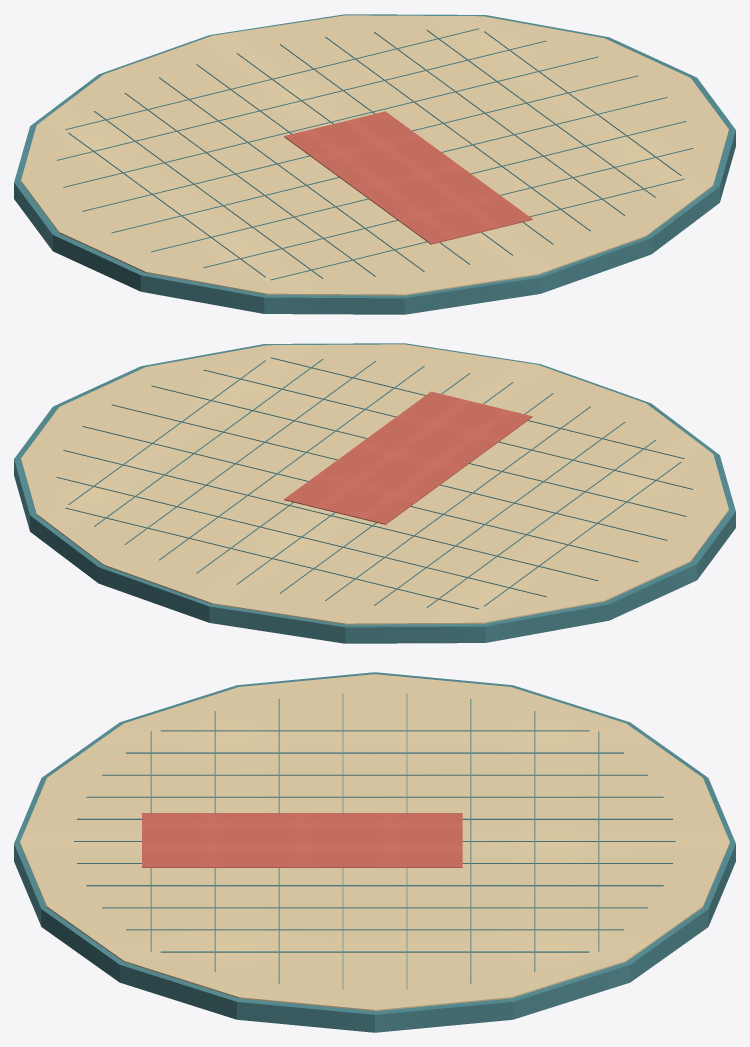
File: atlas100-s071-a07.glb
3 renders of one model, top to bottom at view 1: azimuth 30°, elevation 25°; view 2: azimuth 150°, elevation 25°; view 3: azimuth 270°, elevation 25°, orthographic. The views are drawn at different scales.
Parts seen in each view (by area): view 1: atlas100-s071-a07:part-001, atlas100-s071-a07:part-000, atlas100-s071-a07:part-021, atlas100-s071-a07:part-015, atlas100-s071-a07:part-014, atlas100-s071-a07:part-017, atlas100-s071-a07:part-016, atlas100-s071-a07:part-018, atlas100-s071-a07:part-013, atlas100-s071-a07:part-019, atlas100-s071-a07:part-009, atlas100-s071-a07:part-005 (+1 smaller); view 2: atlas100-s071-a07:part-001, atlas100-s071-a07:part-000, atlas100-s071-a07:part-021, atlas100-s071-a07:part-015, atlas100-s071-a07:part-014, atlas100-s071-a07:part-016, atlas100-s071-a07:part-017, atlas100-s071-a07:part-018, atlas100-s071-a07:part-013, atlas100-s071-a07:part-019, atlas100-s071-a07:part-005, atlas100-s071-a07:part-009 (+1 smaller); view 3: atlas100-s071-a07:part-001, atlas100-s071-a07:part-000, atlas100-s071-a07:part-021, atlas100-s071-a07:part-005, atlas100-s071-a07:part-009, atlas100-s071-a07:part-004, atlas100-s071-a07:part-010, atlas100-s071-a07:part-003, atlas100-s071-a07:part-011, atlas100-s071-a07:part-012, atlas100-s071-a07:part-002.
Part boxes in pixels (bbox=[...]): atlas100-s071-a07:part-001: bbox=[21, 15, 728, 295]; atlas100-s071-a07:part-000: bbox=[14, 14, 735, 314]; atlas100-s071-a07:part-021: bbox=[284, 111, 532, 244]; atlas100-s071-a07:part-015: bbox=[63, 56, 598, 187]; atlas100-s071-a07:part-014: bbox=[56, 40, 546, 160]; atlas100-s071-a07:part-017: bbox=[111, 97, 667, 233]; atlas100-s071-a07:part-016: bbox=[82, 75, 638, 211]; atlas100-s071-a07:part-018: bbox=[151, 121, 686, 251]; atlas100-s071-a07:part-013: bbox=[65, 28, 478, 129]; atlas100-s071-a07:part-019: bbox=[203, 148, 693, 267]; atlas100-s071-a07:part-009: bbox=[325, 37, 590, 231]; atlas100-s071-a07:part-005: bbox=[159, 77, 424, 271]; atlas100-s071-a07:part-001: bbox=[21, 344, 728, 624]; atlas100-s071-a07:part-000: bbox=[14, 343, 735, 643]; atlas100-s071-a07:part-021: bbox=[284, 391, 532, 524]; atlas100-s071-a07:part-015: bbox=[63, 450, 598, 580]; atlas100-s071-a07:part-014: bbox=[56, 477, 546, 596]; atlas100-s071-a07:part-016: bbox=[82, 426, 638, 562]; atlas100-s071-a07:part-017: bbox=[111, 404, 667, 540]; atlas100-s071-a07:part-018: bbox=[151, 385, 686, 516]; atlas100-s071-a07:part-013: bbox=[65, 507, 479, 609]; atlas100-s071-a07:part-019: bbox=[203, 369, 693, 489]; atlas100-s071-a07:part-005: bbox=[325, 406, 590, 600]; atlas100-s071-a07:part-009: bbox=[159, 366, 424, 560]; atlas100-s071-a07:part-001: bbox=[20, 674, 729, 1011]; atlas100-s071-a07:part-000: bbox=[14, 672, 735, 1032]; atlas100-s071-a07:part-021: bbox=[142, 813, 462, 867]; atlas100-s071-a07:part-005: bbox=[86, 796, 663, 797]; atlas100-s071-a07:part-009: bbox=[86, 885, 663, 886]; atlas100-s071-a07:part-004: bbox=[102, 774, 647, 775]; atlas100-s071-a07:part-010: bbox=[102, 907, 647, 908]; atlas100-s071-a07:part-003: bbox=[126, 752, 623, 753]; atlas100-s071-a07:part-011: bbox=[126, 929, 623, 930]; atlas100-s071-a07:part-012: bbox=[160, 951, 589, 952]; atlas100-s071-a07:part-002: bbox=[160, 730, 589, 731].
Size of the model in its own units: 13.95 by 0.404 by 12.42.
Materials: 3 (3 with a texture image).
